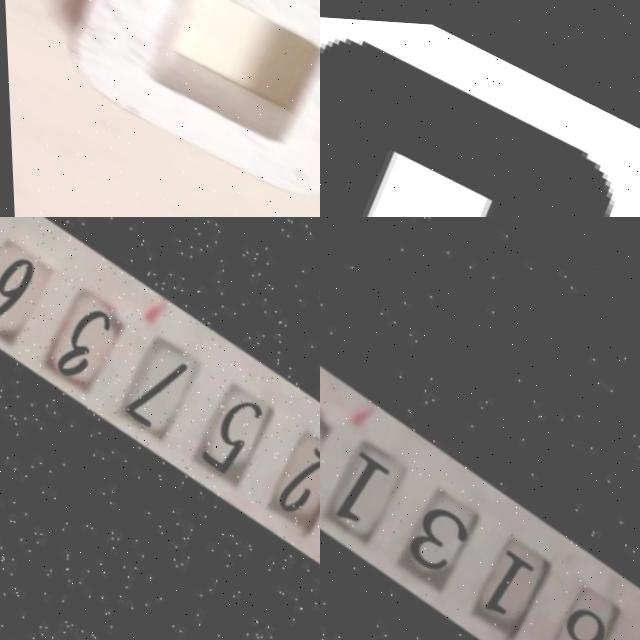1: (455, 525, 559, 640), (320, 429, 416, 552)
2: (250, 417, 320, 537)
3: (378, 472, 492, 600), (25, 279, 138, 405)
5: (174, 366, 289, 495), (320, 382, 344, 507)
6: (0, 228, 65, 354), (529, 572, 631, 640)
7: (99, 324, 211, 449)
Q: (30, 0, 320, 217)
S: (320, 1, 640, 217)
